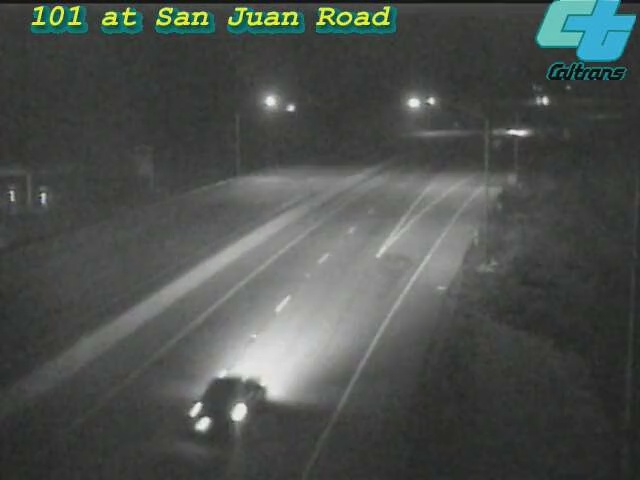vehicle: (172, 344, 282, 454), (488, 109, 538, 159)
